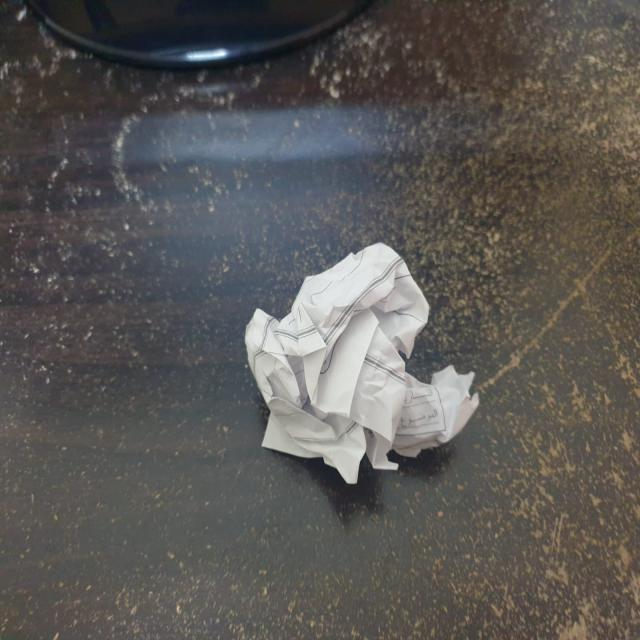Paper: (247, 243, 478, 487)
